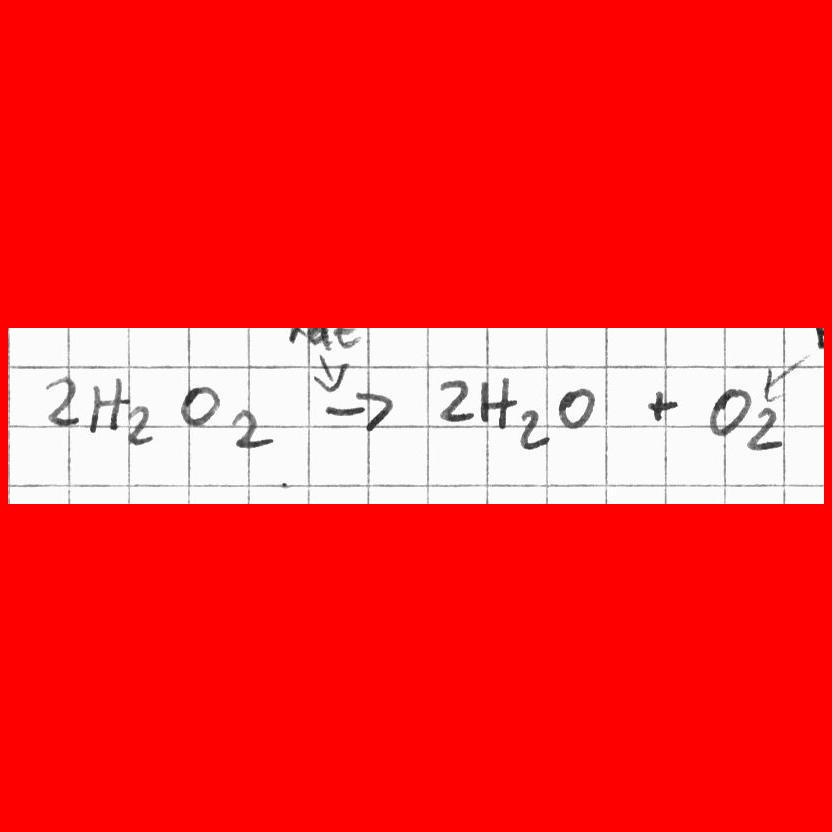Char: (321, 390, 397, 435), (706, 379, 751, 436), (88, 374, 127, 437), (42, 373, 83, 430), (479, 373, 516, 432), (228, 409, 276, 451), (435, 377, 476, 425), (744, 403, 783, 452), (181, 381, 222, 427), (556, 385, 597, 431), (642, 384, 682, 426), (122, 402, 157, 449), (519, 407, 554, 454)
